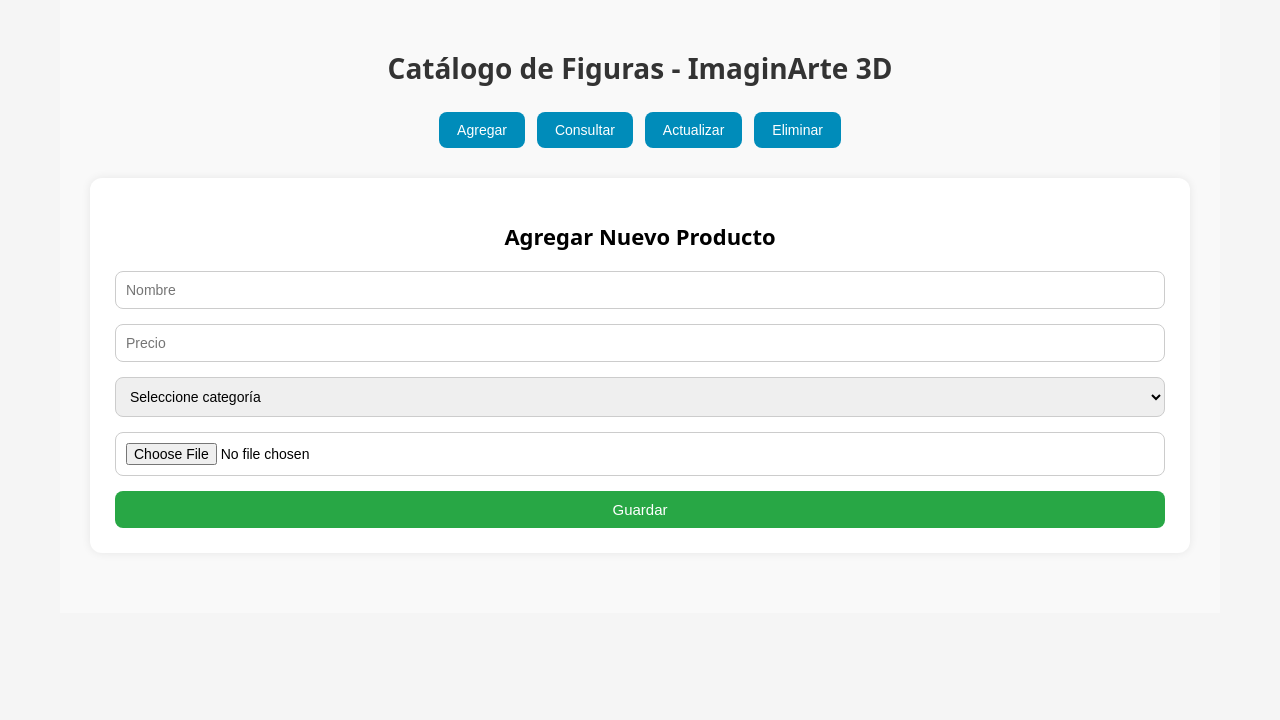
CatalogoFiguras › Permite cancelar edición y limpiar formulario
Step 1. Click the button "Consultar" → point(585, 130), box 537,112 -> 633,148
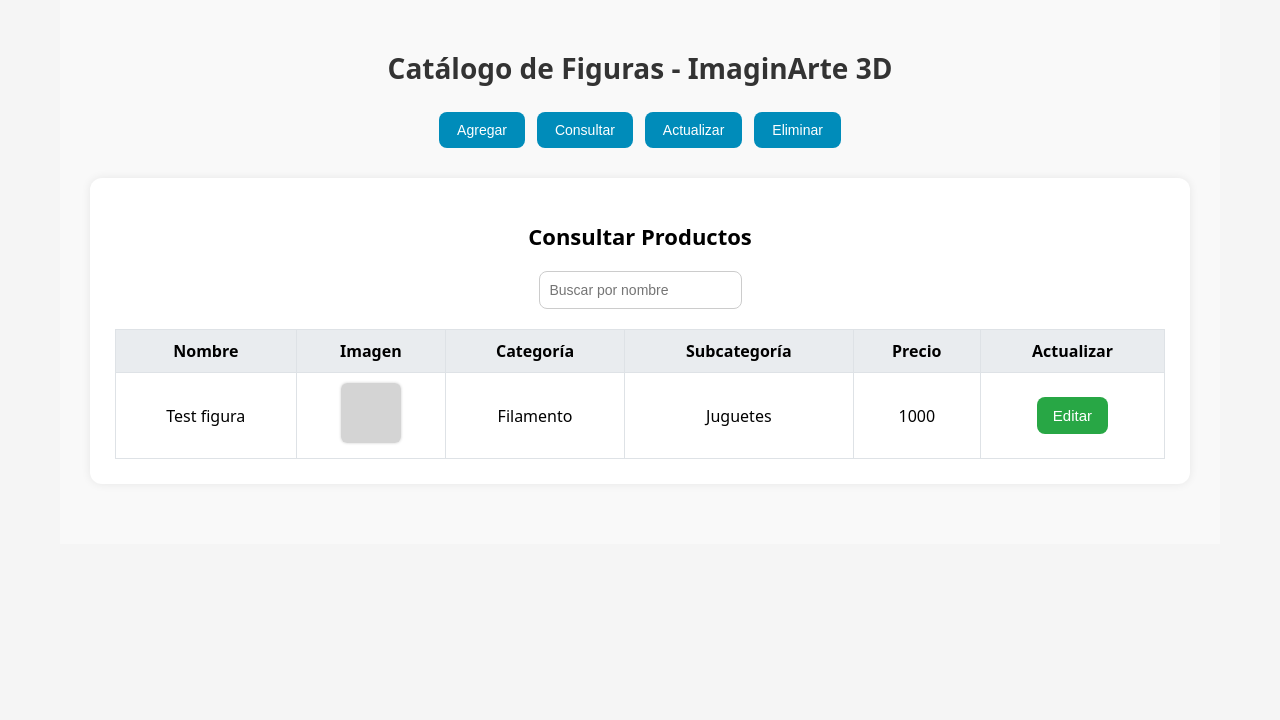
Step 2. Click the button "Editar" → point(1072, 416), box 1037,397 -> 1108,434
(page scrolled)
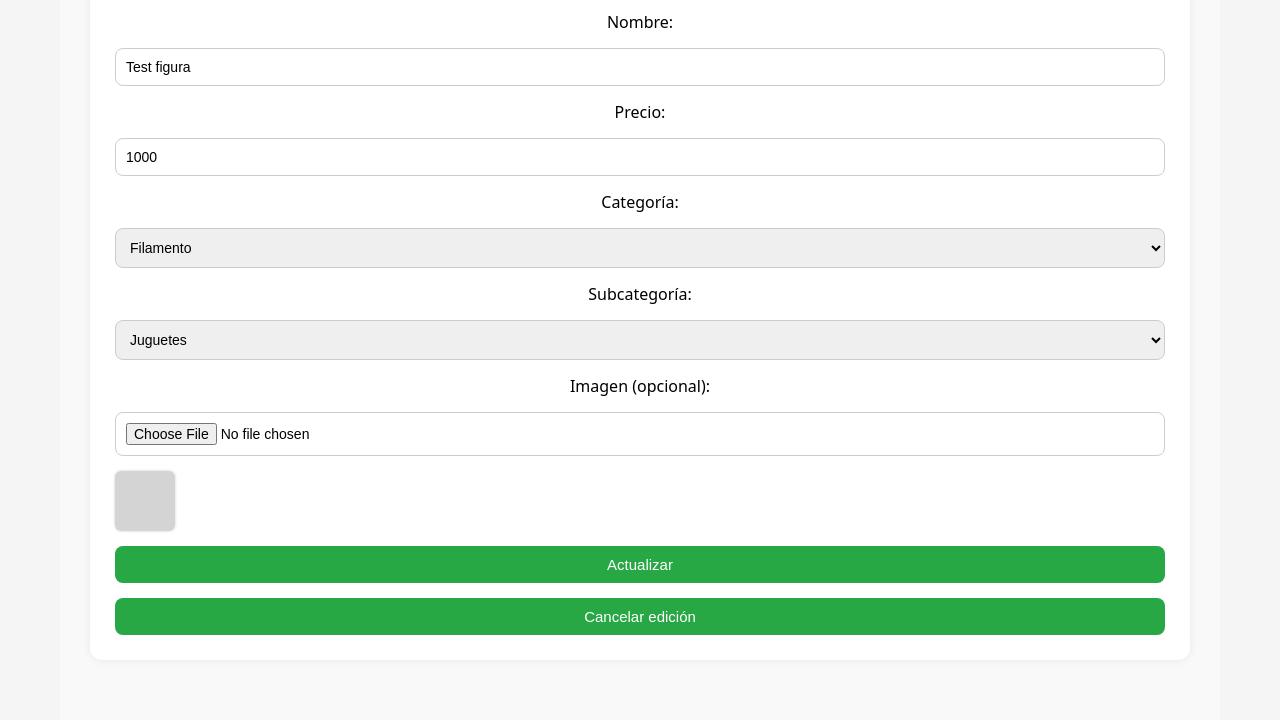
Check: the field showing "Test figura" is shown, box 115,48 -> 1165,86
Step 3. Click the button "Cancelar edición" → point(640, 616), box 115,598 -> 1165,635
(page scrolled)
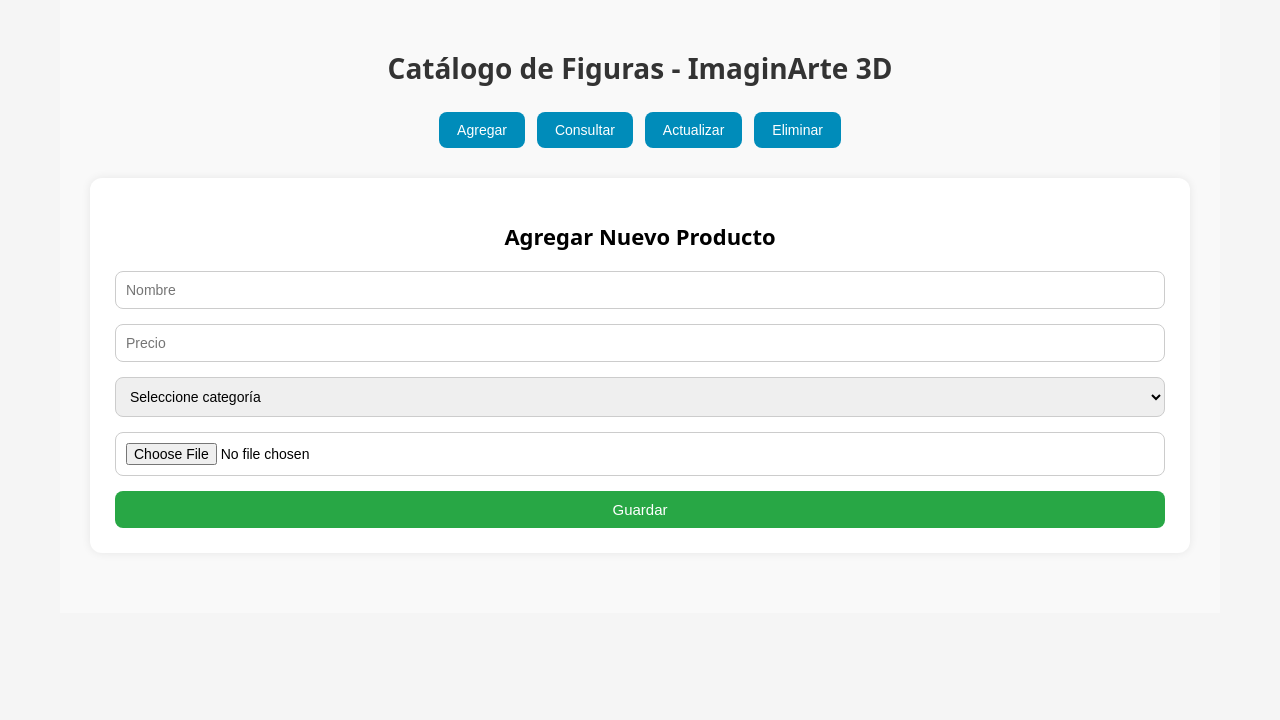
Check: the field with placeholder "Nombre" is empty, box 115,271 -> 1165,309
